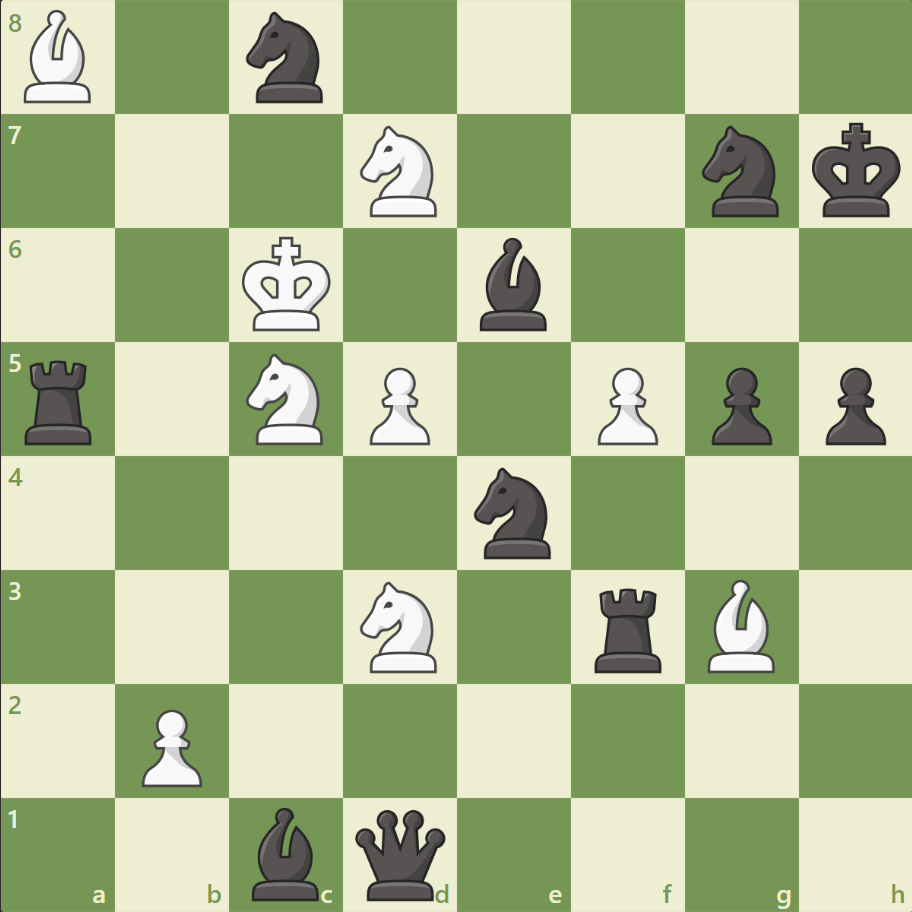B: (17, 6, 101, 109), (698, 574, 782, 676)
K: (238, 231, 338, 339)
N: (351, 121, 449, 223), (351, 575, 449, 677), (238, 348, 335, 450)
P: (133, 700, 208, 791), (361, 359, 435, 450), (588, 359, 662, 450)
b: (471, 233, 555, 336), (244, 801, 328, 904)
k: (806, 117, 906, 225)
n: (238, 7, 335, 110), (465, 461, 562, 564), (692, 121, 789, 223)
p: (701, 359, 776, 450), (815, 359, 889, 450)
q: (351, 804, 450, 903)
r: (19, 352, 102, 449), (587, 579, 670, 676)
